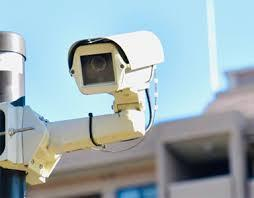Monitor: (58, 15, 193, 141)
